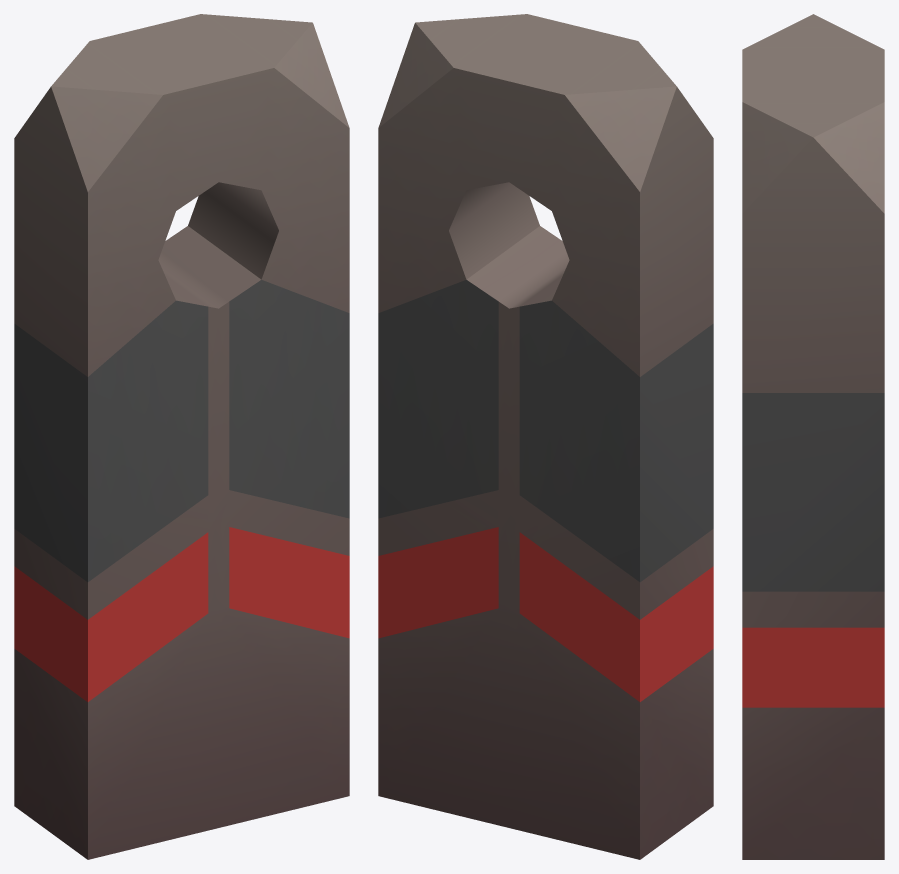
File: totemG_air04.FBX
The picture shows the model from 3 angles, left to right: view 1: azimuth 30°, elevation 25°; view 2: azimuth 150°, elevation 25°; view 3: azimuth 270°, elevation 25°; orthographic projection. The views are drawn at different scales.
Parts seen in each view (by area): view 1: totemG_air04; view 2: totemG_air04; view 3: totemG_air04.
Part boxes in pixels (x1,y1,x2,y2): totemG_air04: (14, 14, 349, 859); totemG_air04: (378, 14, 713, 859); totemG_air04: (742, 14, 884, 859).
Size of the model in its own units: 10.45 by 28.46 by 5.09.
